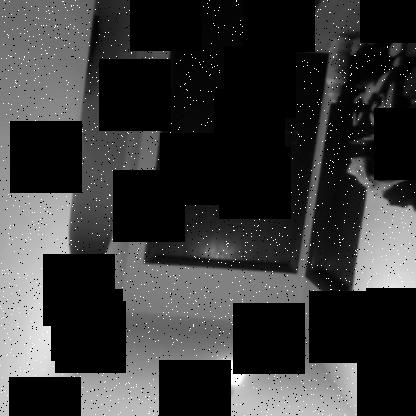Porte: (143, 0, 336, 275)
